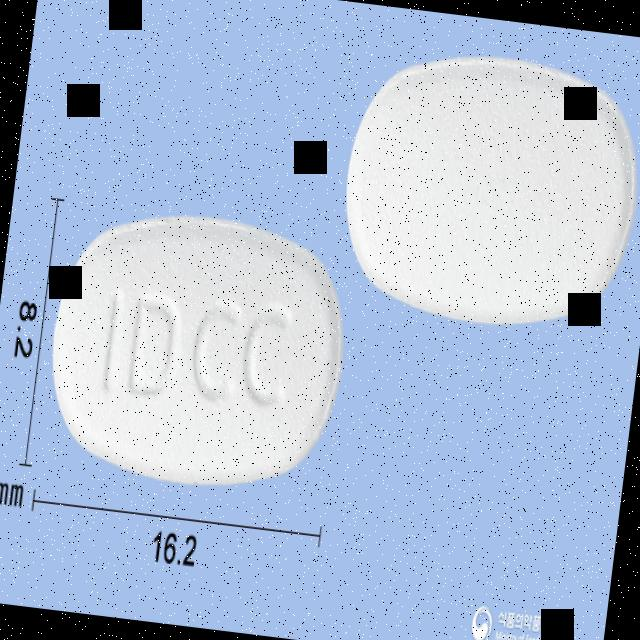Cycin: (37, 195, 360, 502)
